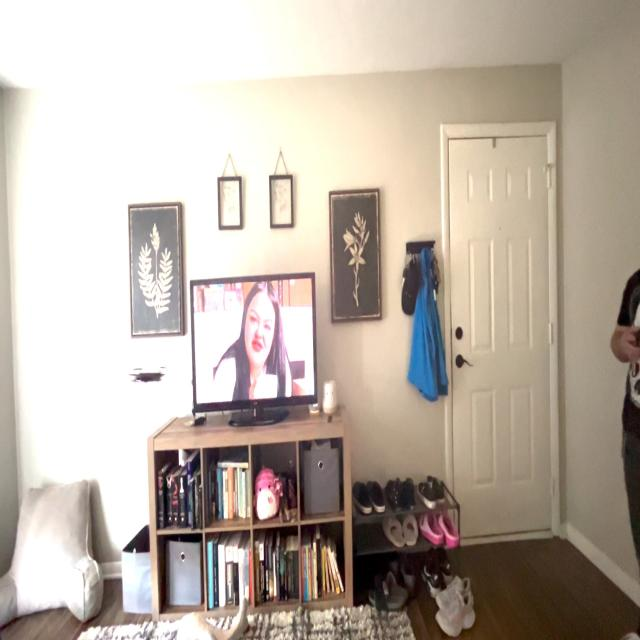drone: (120, 354, 181, 403)
